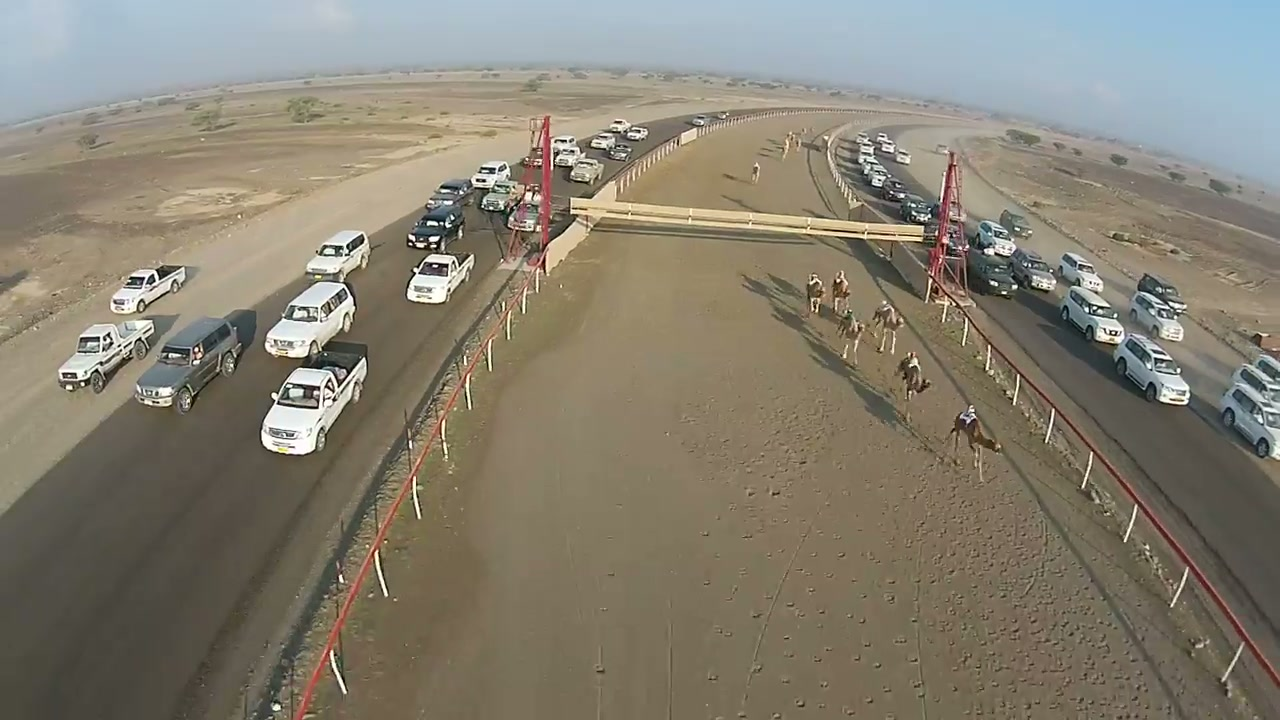animal_foot_print: (924, 453, 1151, 715), (757, 488, 933, 719)
